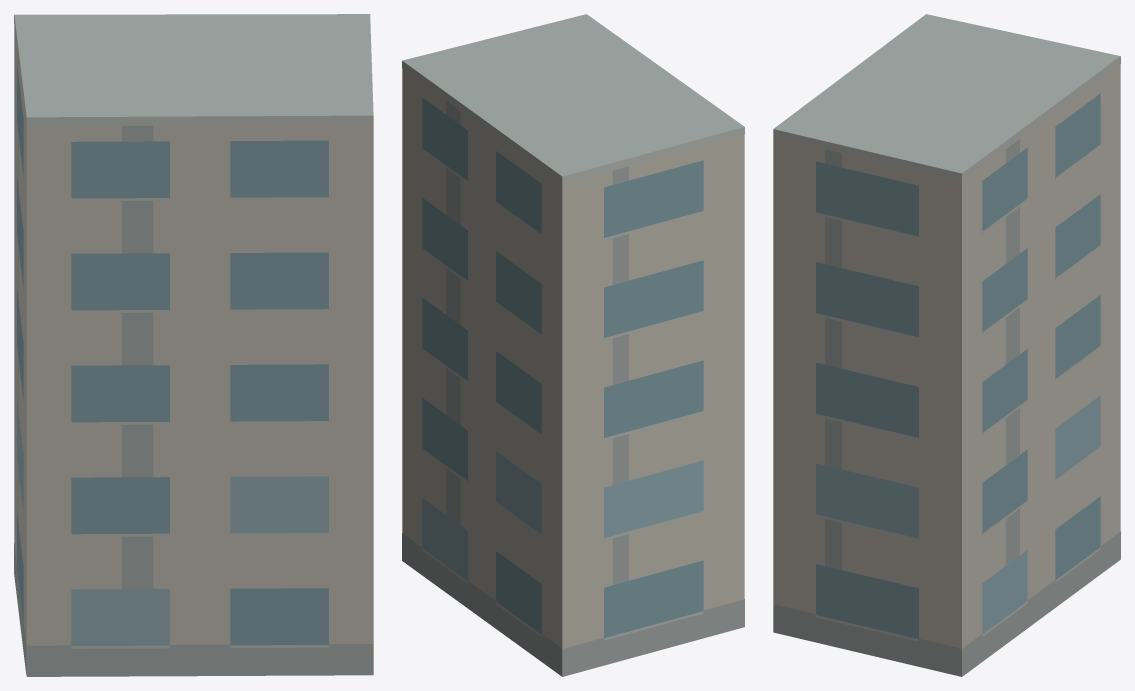
The model's file is survey-upis-32727026.glb.
3 renders of one model, left to right at view 1: azimuth 30°, elevation 25°; view 2: azimuth 150°, elevation 25°; view 3: azimuth 270°, elevation 25°, orthographic. The views are drawn at different scales.
Parts seen in each view (by area): view 1: survey-upis-32727026.tmp; view 2: survey-upis-32727026.tmp; view 3: survey-upis-32727026.tmp.
Boxes of the visible parts, x1,y1,x2,y2 form: survey-upis-32727026.tmp: (14,14,373,676); survey-upis-32727026.tmp: (402,14,744,676); survey-upis-32727026.tmp: (773,14,1120,676).
Size of the model in its own units: 10.34 by 15.2 by 9.52.
